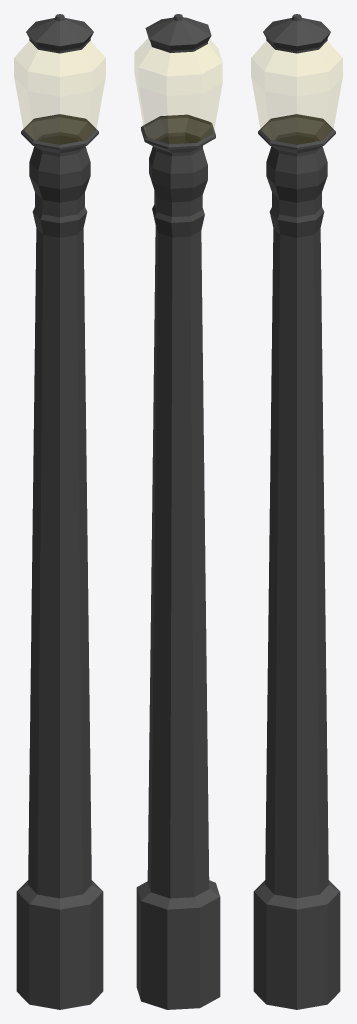
The model's file is lampPost.glb.
3 renders of one model, left to right at view 1: azimuth 90°, elevation 25°; view 2: azimuth 210°, elevation 25°; view 3: azimuth 270°, elevation 25°, orthographic.
Visible parts, largest first — view 1: Lamp Post; view 2: Lamp Post; view 3: Lamp Post.
Part boxes in pixels (bbox=[...]): Lamp Post: bbox=[14, 14, 105, 1009]; Lamp Post: bbox=[134, 14, 222, 1009]; Lamp Post: bbox=[251, 14, 342, 1009].
Size of the model in its own units: 1.94 by 22.77 by 1.94.
